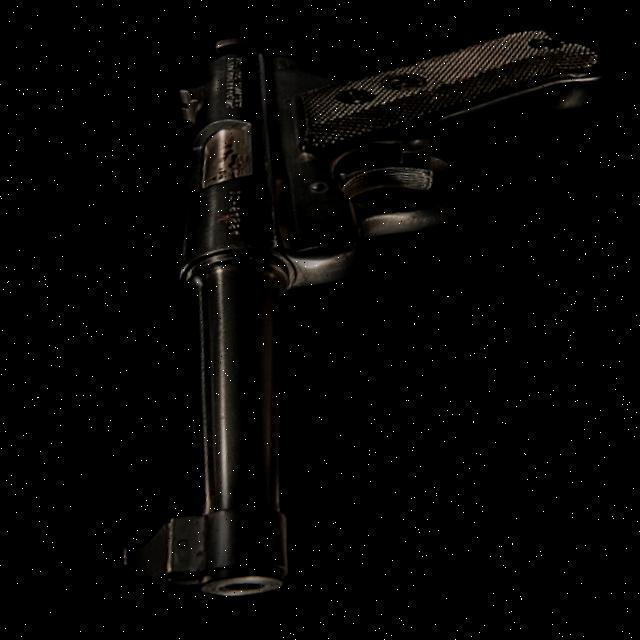pistol: (78, 0, 621, 634)
